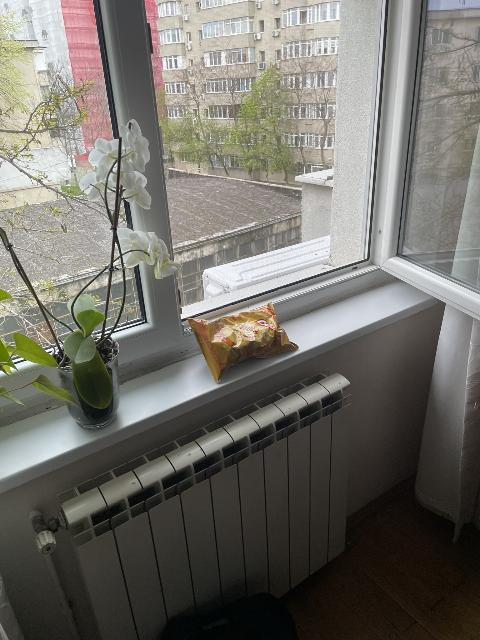Chio Hula Hoops Cheese 70g: (187, 302, 299, 379)
